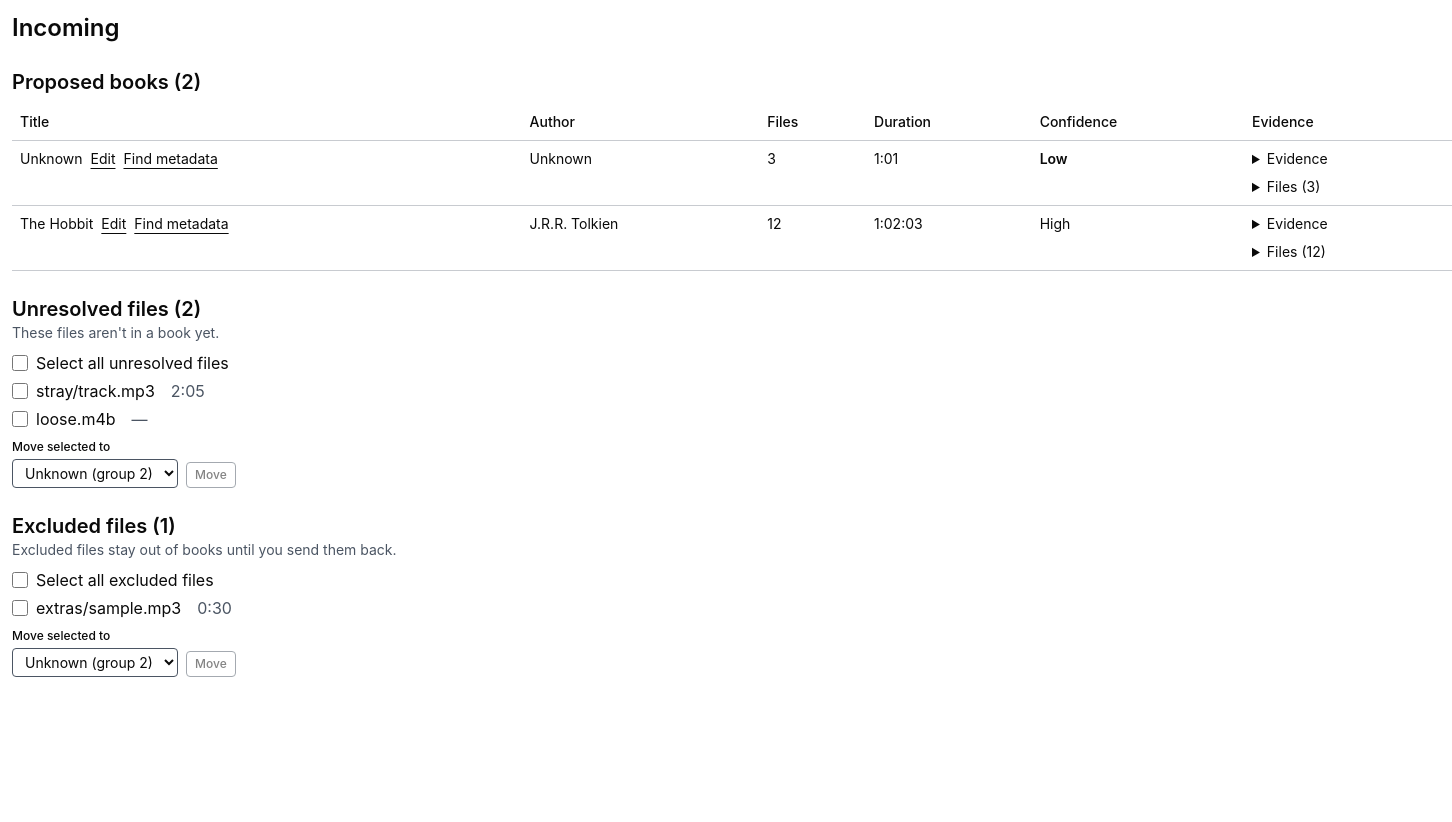
IncomingPage › editing a title and author › opens a prefilled form with focus on Title, saves, then shows the new values with Edited
Click the button with aria-label "Edit The Hobbit" at [114, 224], box x1=101 y1=214 x2=126 y2=234
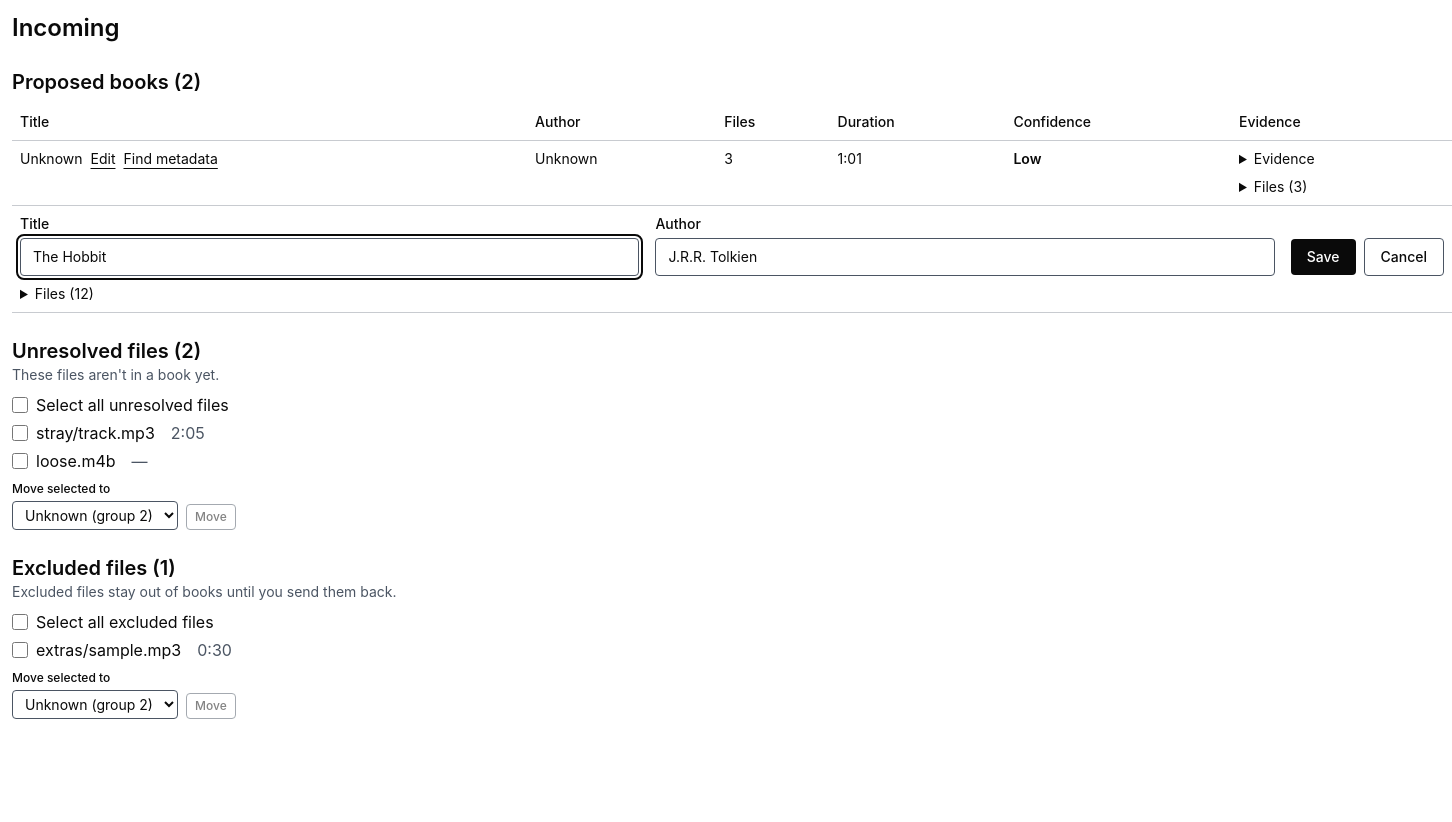
Result: the field labelled "Title" holds "The Hobbit"
Result: the field labelled "Author" holds "J.R.R. Tolkien" at x1=655 y1=238 x2=1275 y2=276
Replace the text in the field labelled "Title" with "The Hobbit, or There and Back Again" at [330, 257], box x1=20 y1=238 x2=639 y2=276
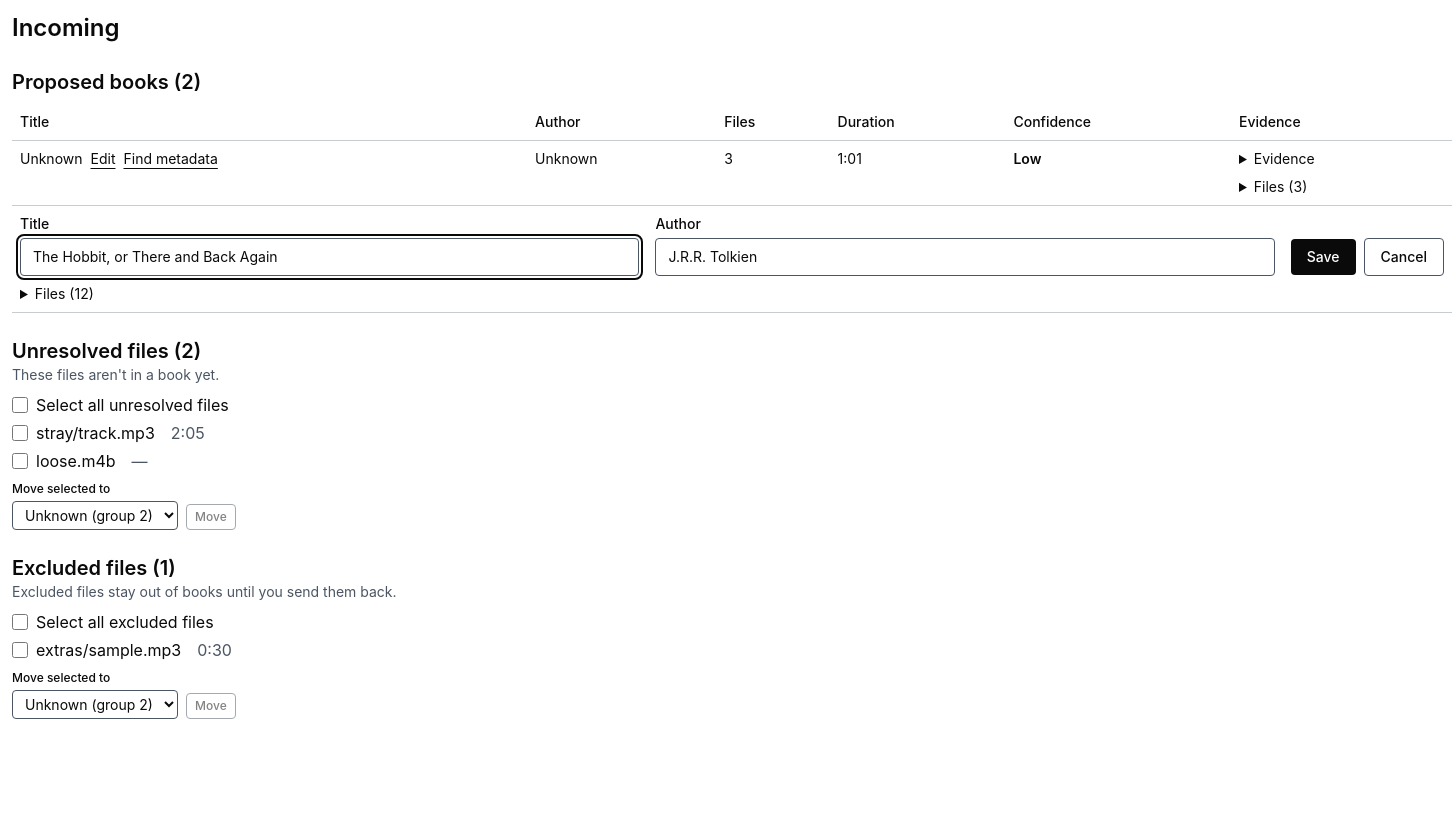
Replace the text in the field labelled "Author" with "Tolkien" at [965, 257], box x1=655 y1=238 x2=1275 y2=276
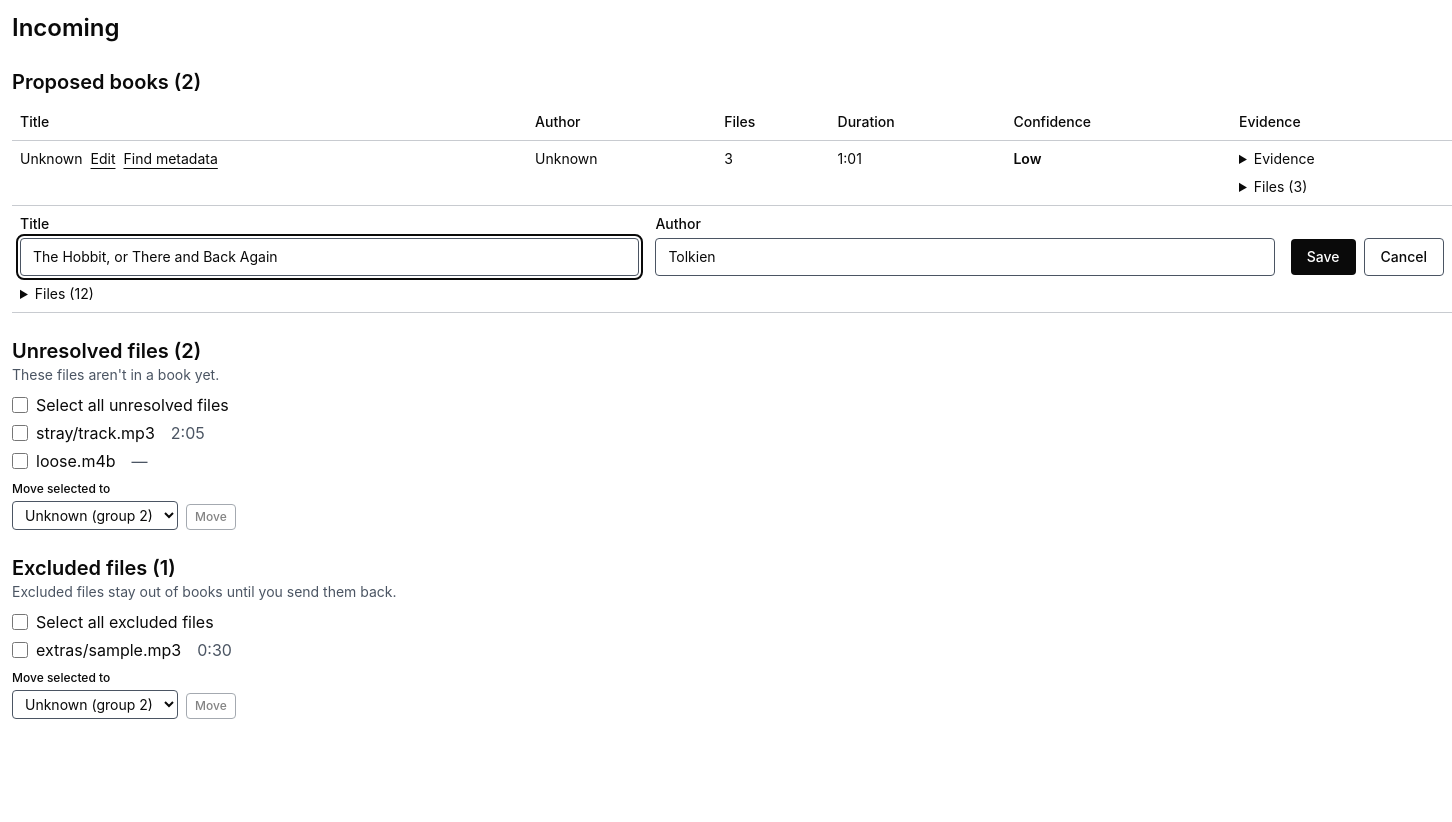
Click the button "Save" at [1323, 257], box x1=1291 y1=239 x2=1356 y2=275
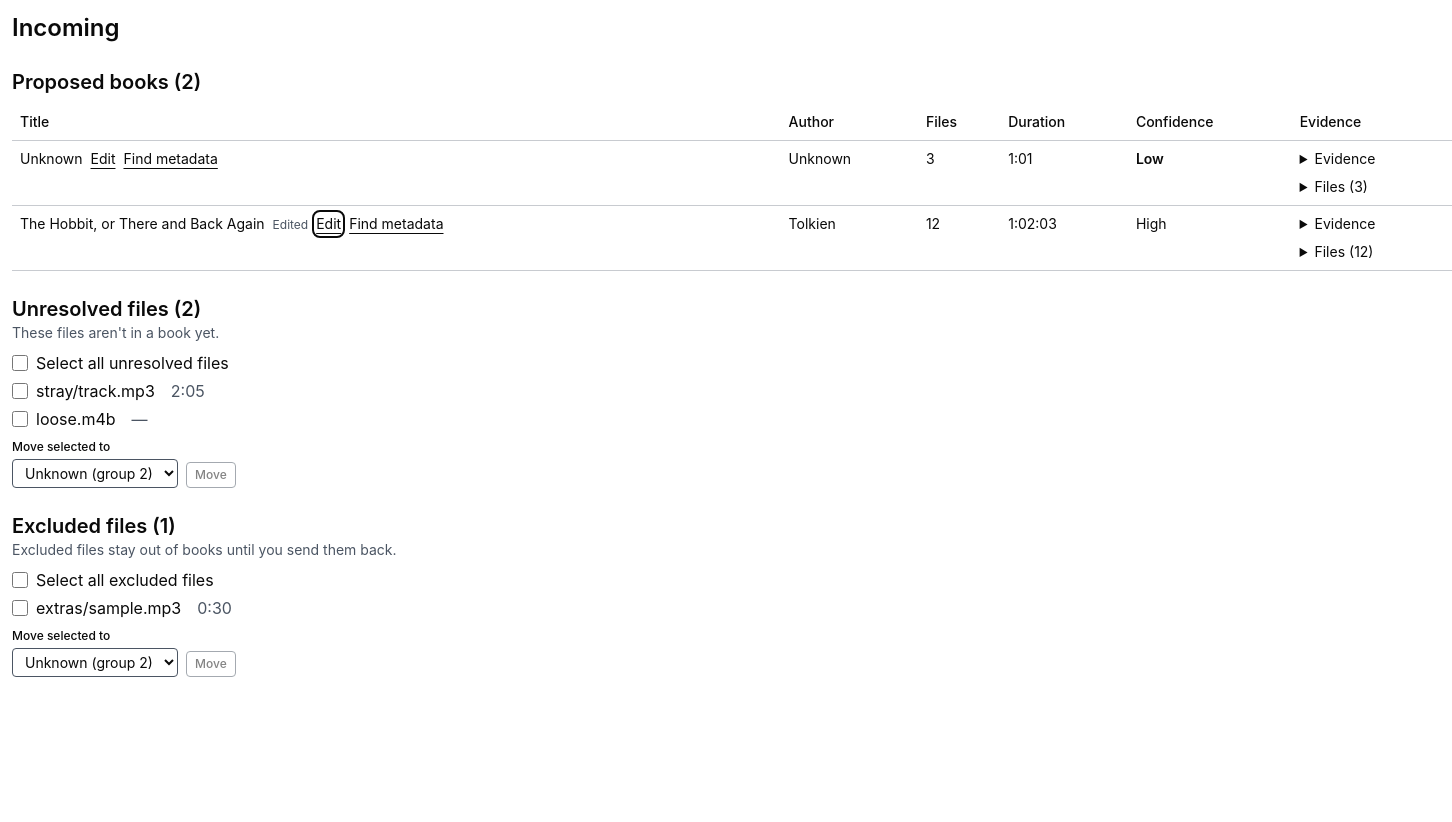
Result: the text "Edited" is shown at x1=273 y1=217 x2=308 y2=233
Result: the cell "Tolkien" is shown at x1=781 y1=206 x2=918 y2=270
